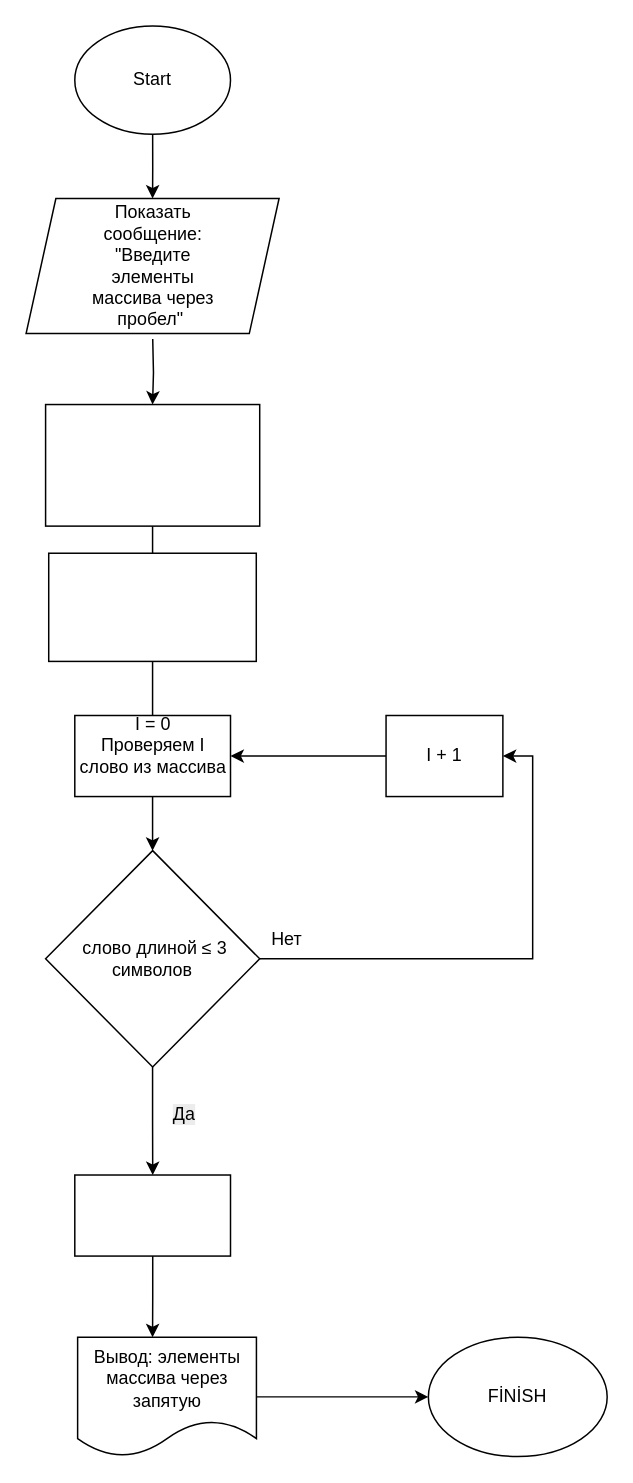
Some shapes in this 633 by 1483 pixel diagram are drawn without their labels. Here are the shapes that lost their labels. From the top down, the box of each, then its label:
(44, 403, 260, 526): Считать ввод пользователя и разделить по пробелу → слова в массиве
(47, 552, 256, 661): Создать новый массив, длиной 3 символа
(73, 1174, 231, 1256): Добавить в Новый массив слова
